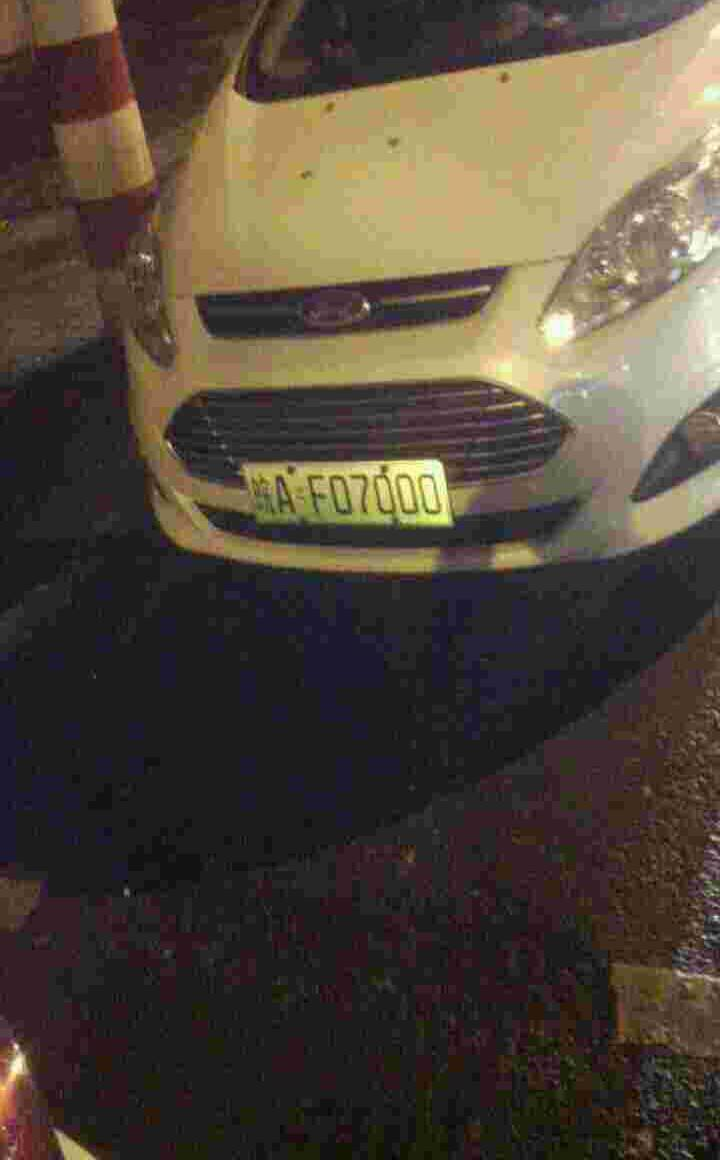car_id: (241, 460, 451, 523)
